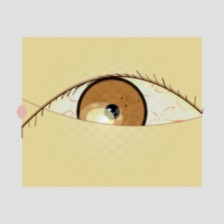corneal_ulcer: (77, 100, 124, 137)
